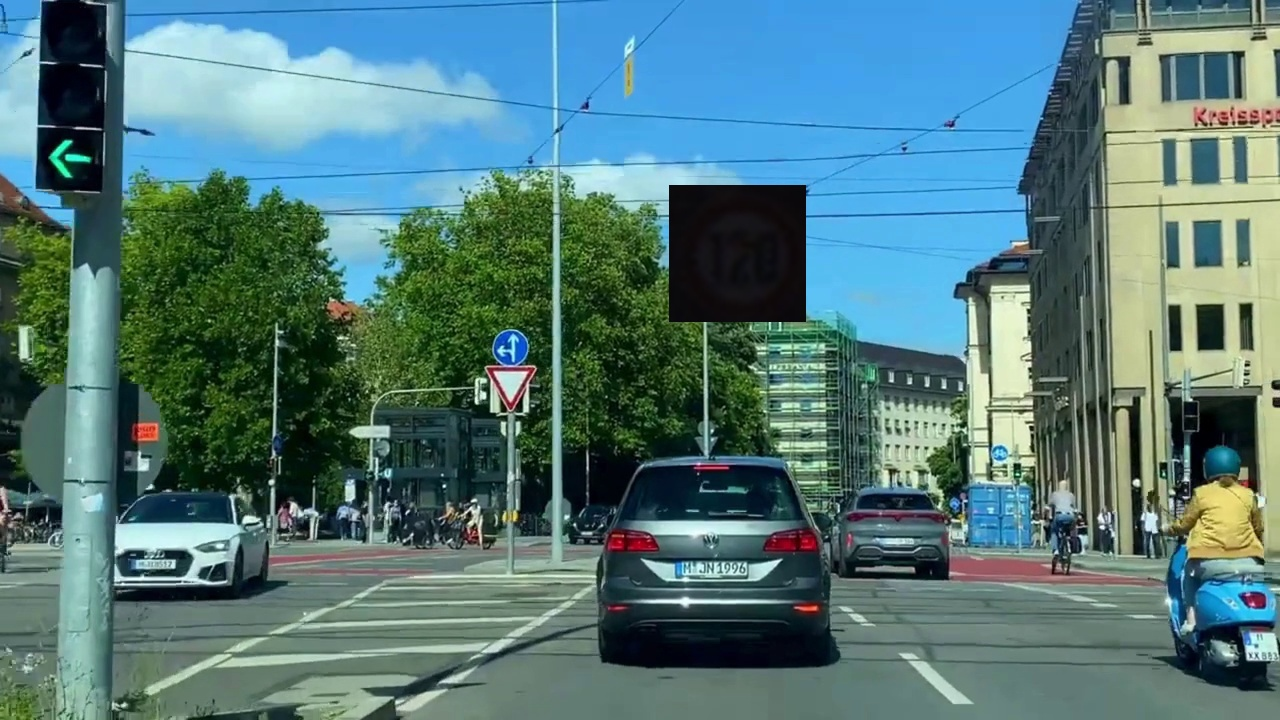Speed 120: (669, 185, 806, 322)
